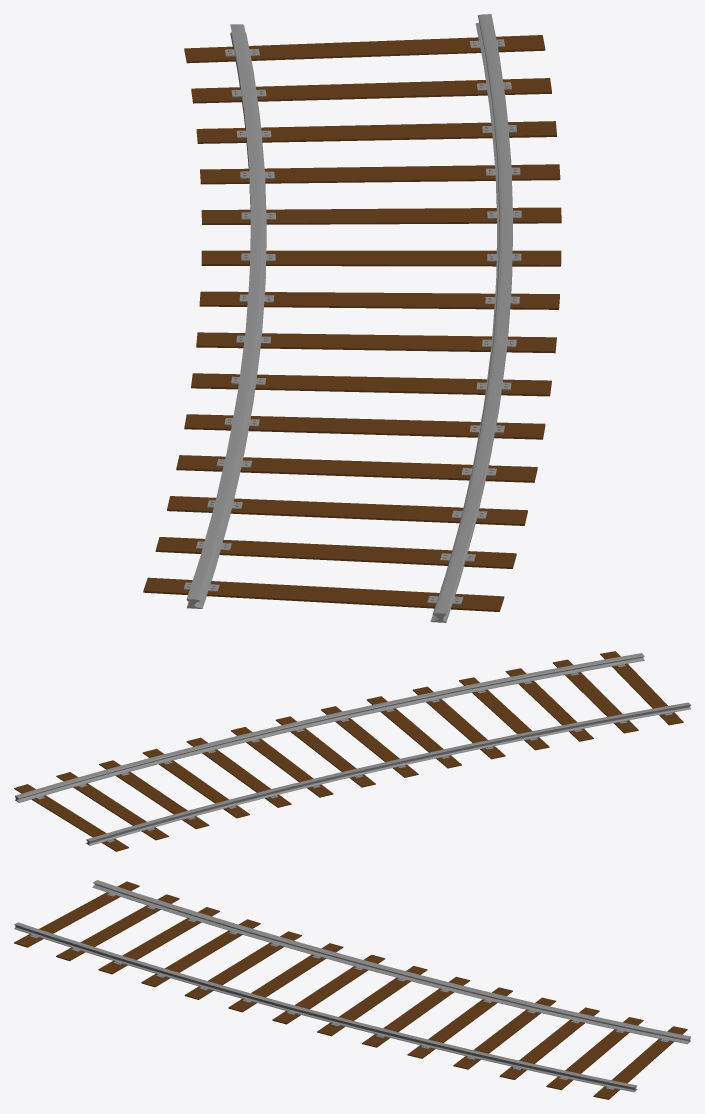
File: TrainTrack5.fbx
3 renders of one model, top to bottom at view 1: azimuth 30°, elevation 25°; view 2: azimuth 150°, elevation 25°; view 3: azimuth 270°, elevation 25°, orthographic. The views are drawn at different scales.
Visible parts, largest first — view 1: Cube.013; view 2: Cube.013; view 3: Cube.013.
Boxes of the visible parts, x1=… form: Cube.013: x1=143, y1=14, x2=561, y2=622; Cube.013: x1=14, y1=651, x2=690, y2=851; Cube.013: x1=14, y1=880, x2=690, y2=1099.
Size of the model in its own units: 1461 by 21.51 by 1922.
